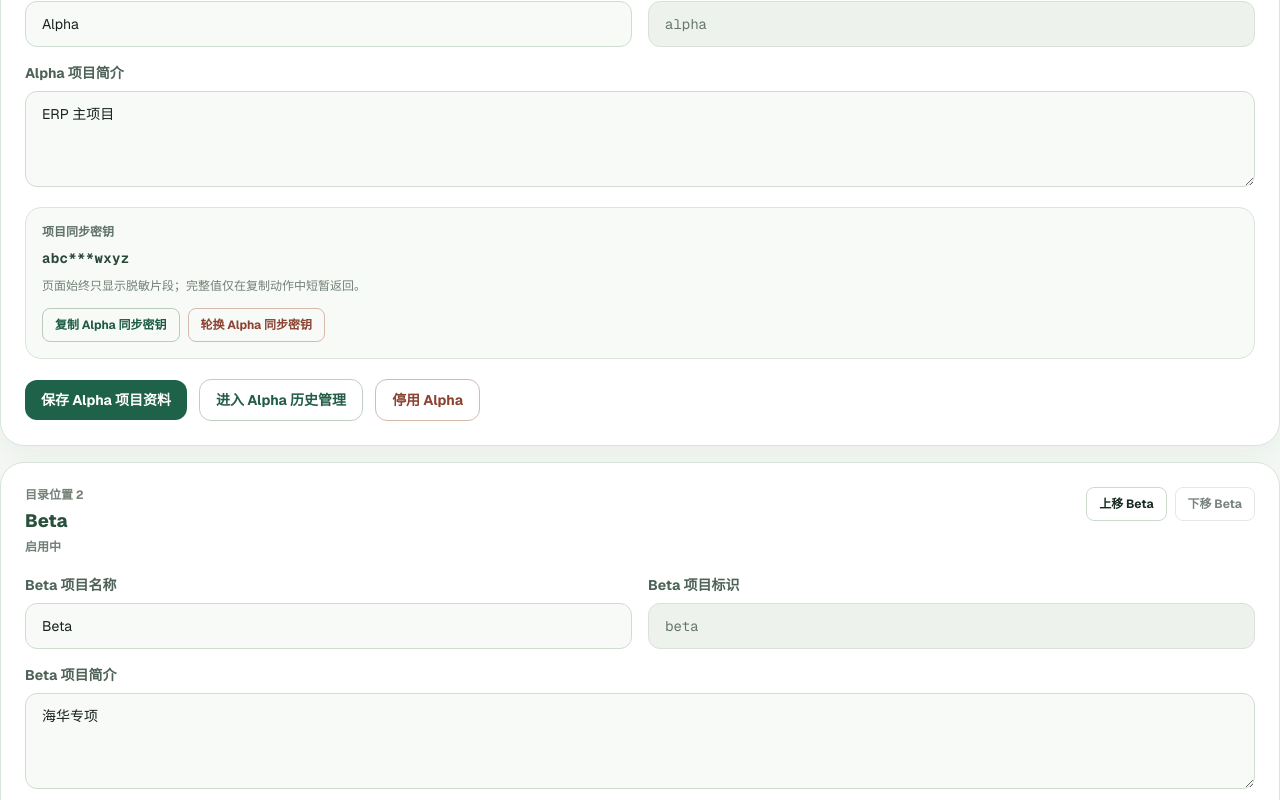
it: 全局项目维护 UI › 同排序值项目改名后按服务端规则重排本地目录位置
(page scrolled)
Click the button "保存 Alpha 项目资料" at (106, 400), box [25,380,187,420]
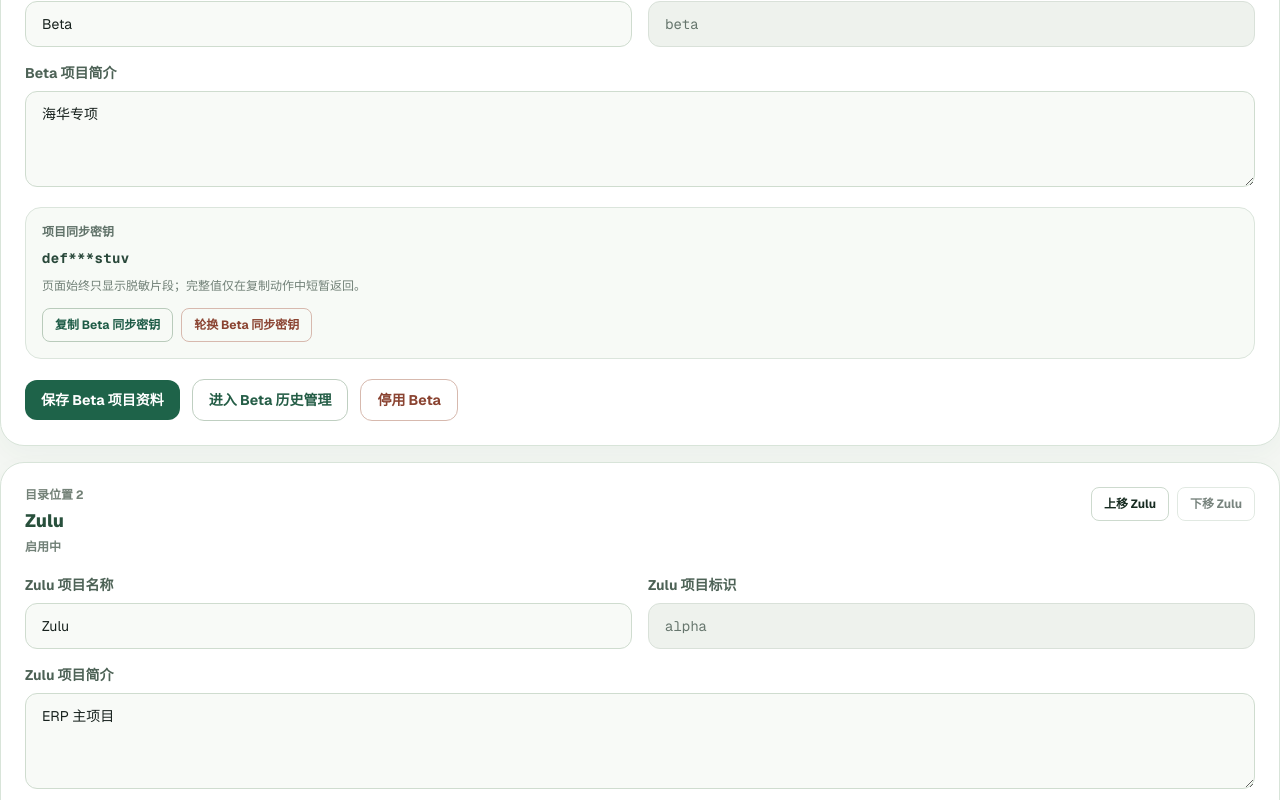
expect the field labelled "Beta 项目名称" is shown: met, box [25,1,632,47]
expect the field labelled "Zulu 项目名称" is shown: met, box [25,603,632,649]
